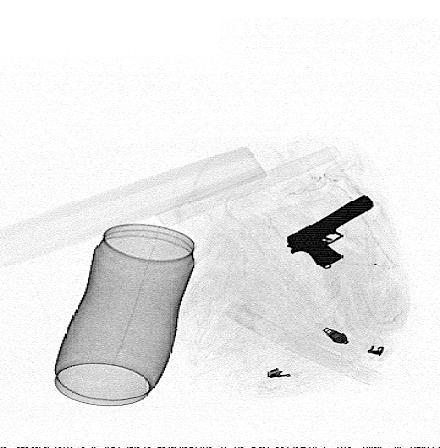Gun: (287, 194, 374, 268)
